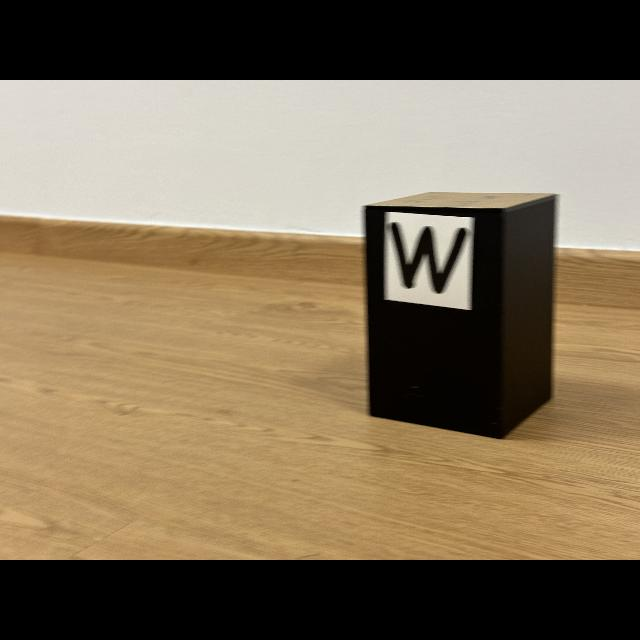W: (391, 222, 465, 292)
